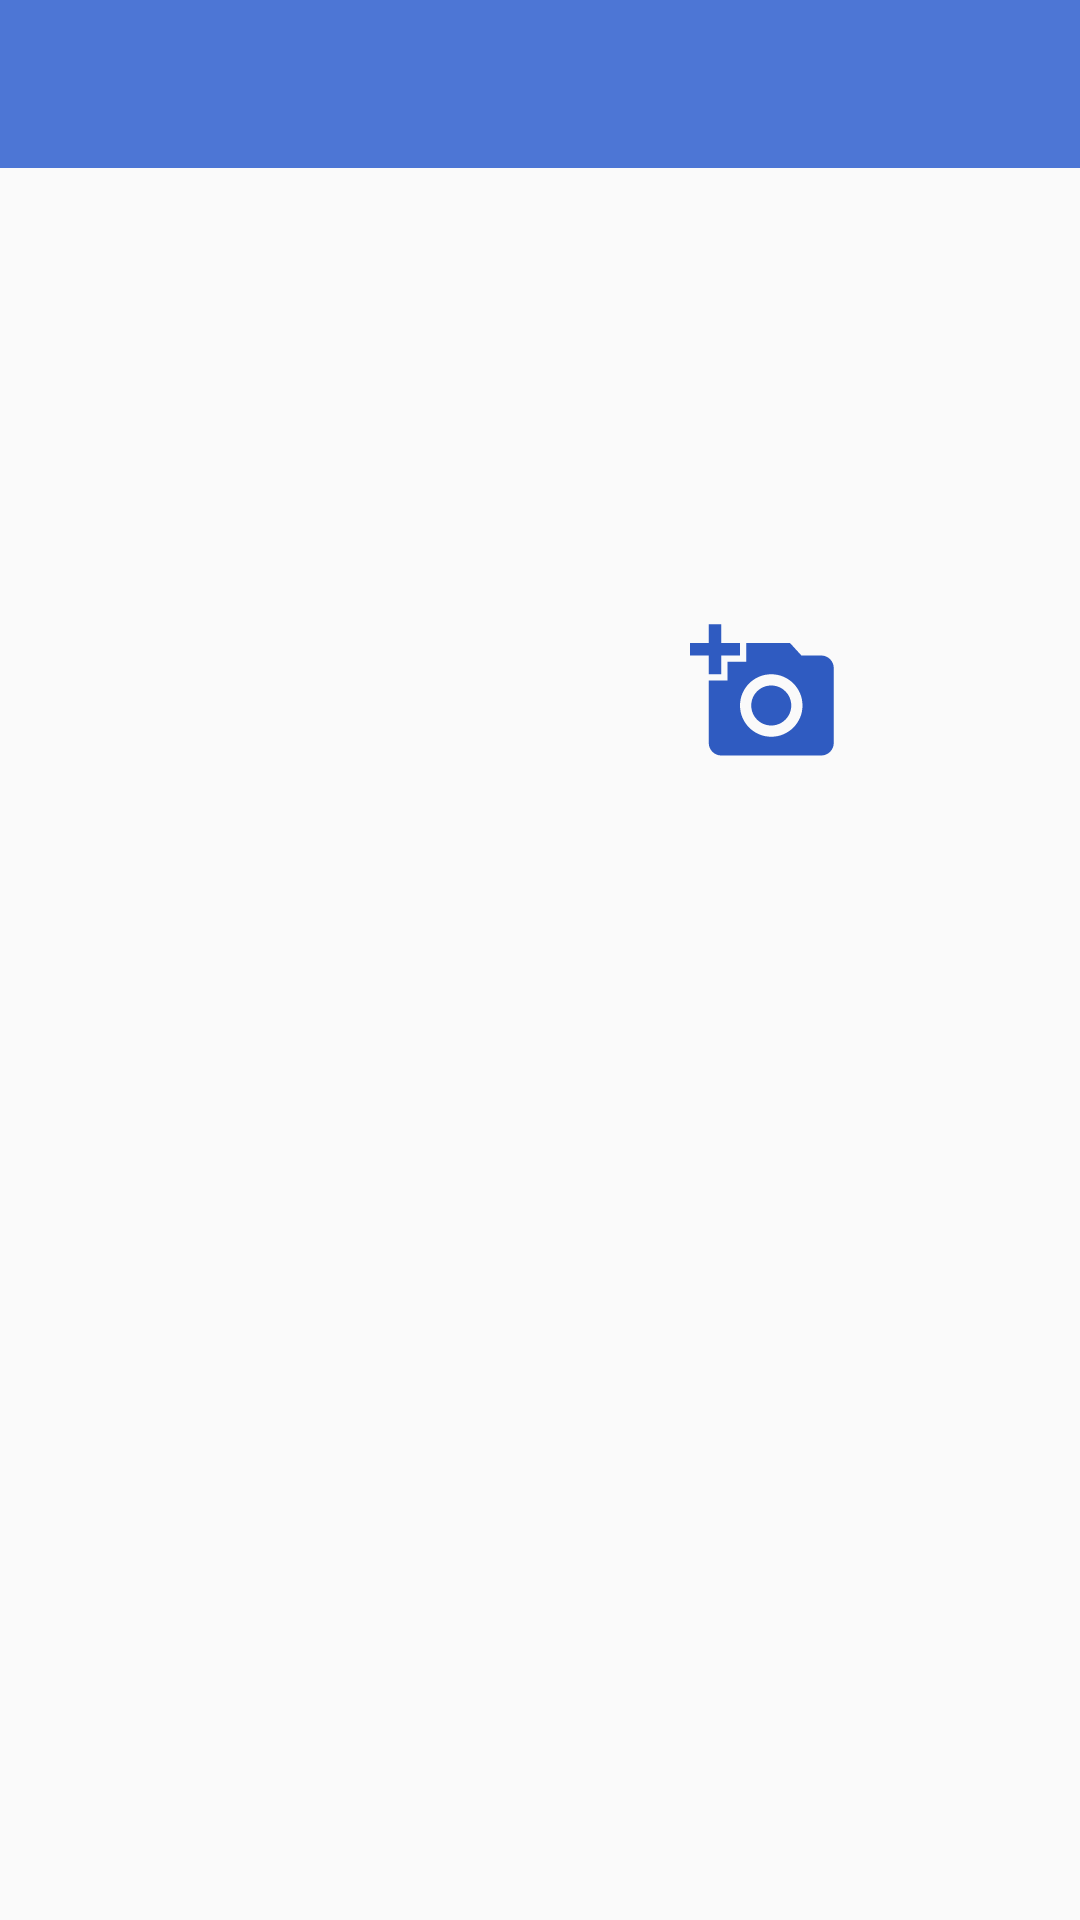

Icon click points for this 1080 × 1920 phone screenshot, format point (x, y):
add photo: point (762, 690)
